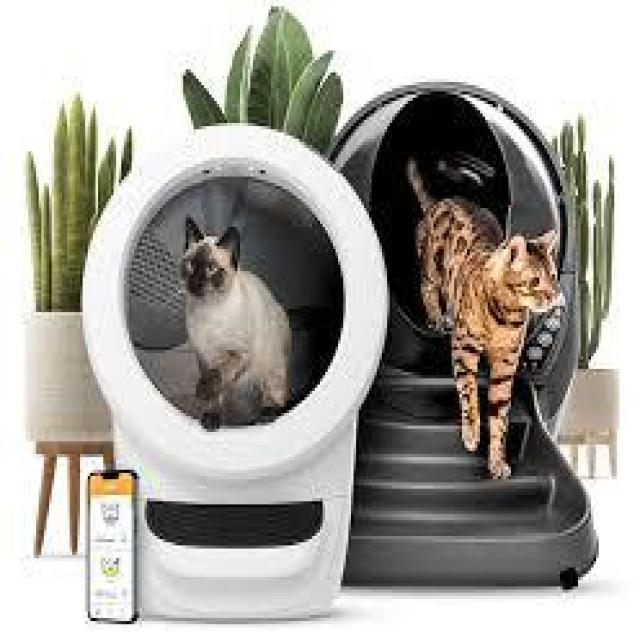Cat: (496, 233, 576, 328), (178, 212, 246, 306)
